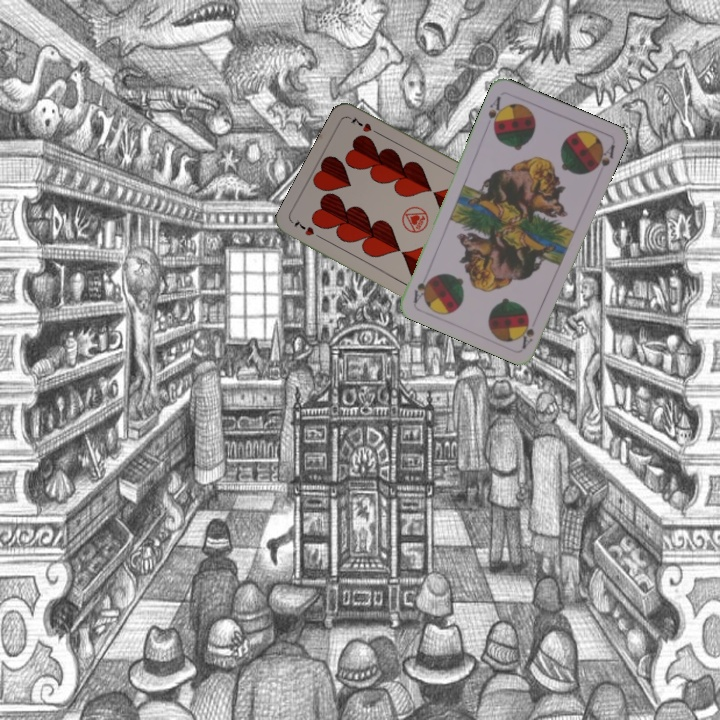H7: (289, 215, 326, 242)
SA: (484, 92, 506, 132), (518, 315, 537, 351)
